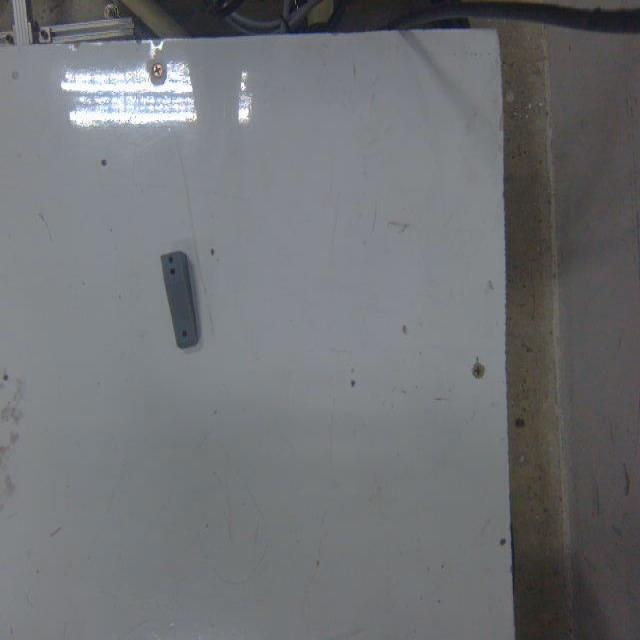grey: (159, 249, 203, 354)
head: (179, 329, 188, 340)
